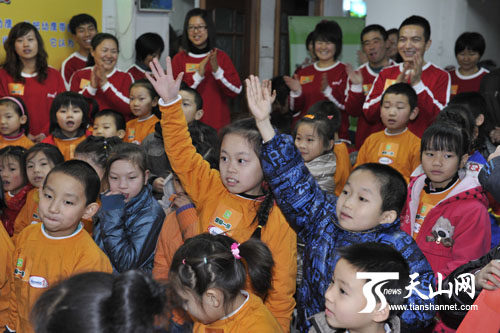handsup: (242, 67, 436, 329), (143, 49, 299, 322)
